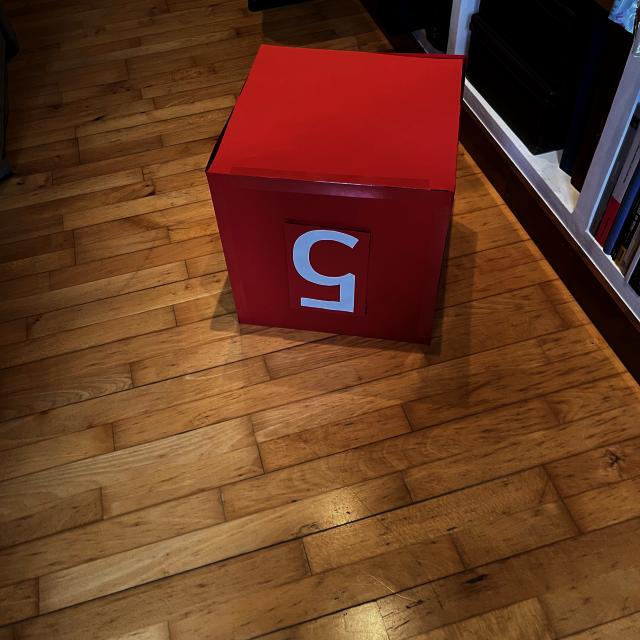box: (202, 41, 468, 348)
